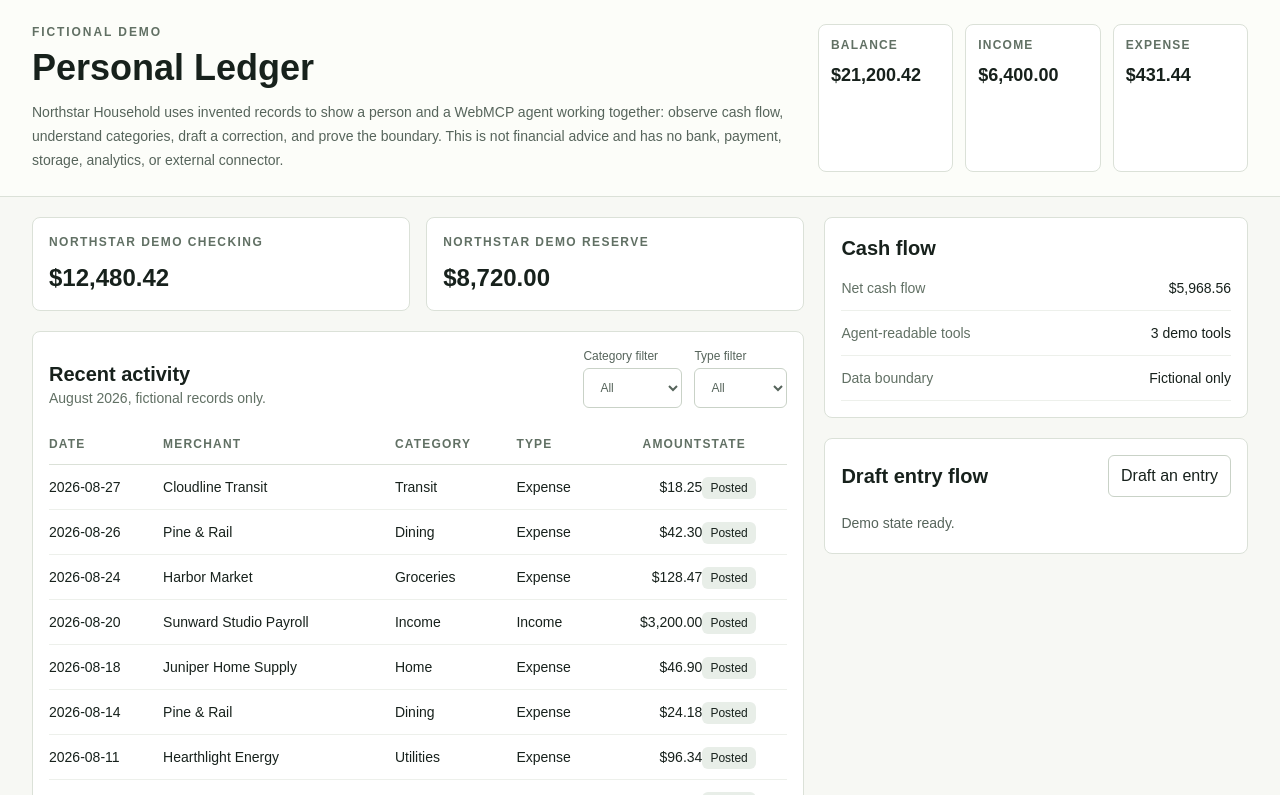
Test: Personal Ledger UI › filters the transaction list by category
Check: the text "Demo state ready." is shown, box [841,515,955,531]
Select "Groceries" in the dropdown labelled "Category filter" at x=633, y=388, box [583,368,682,408]
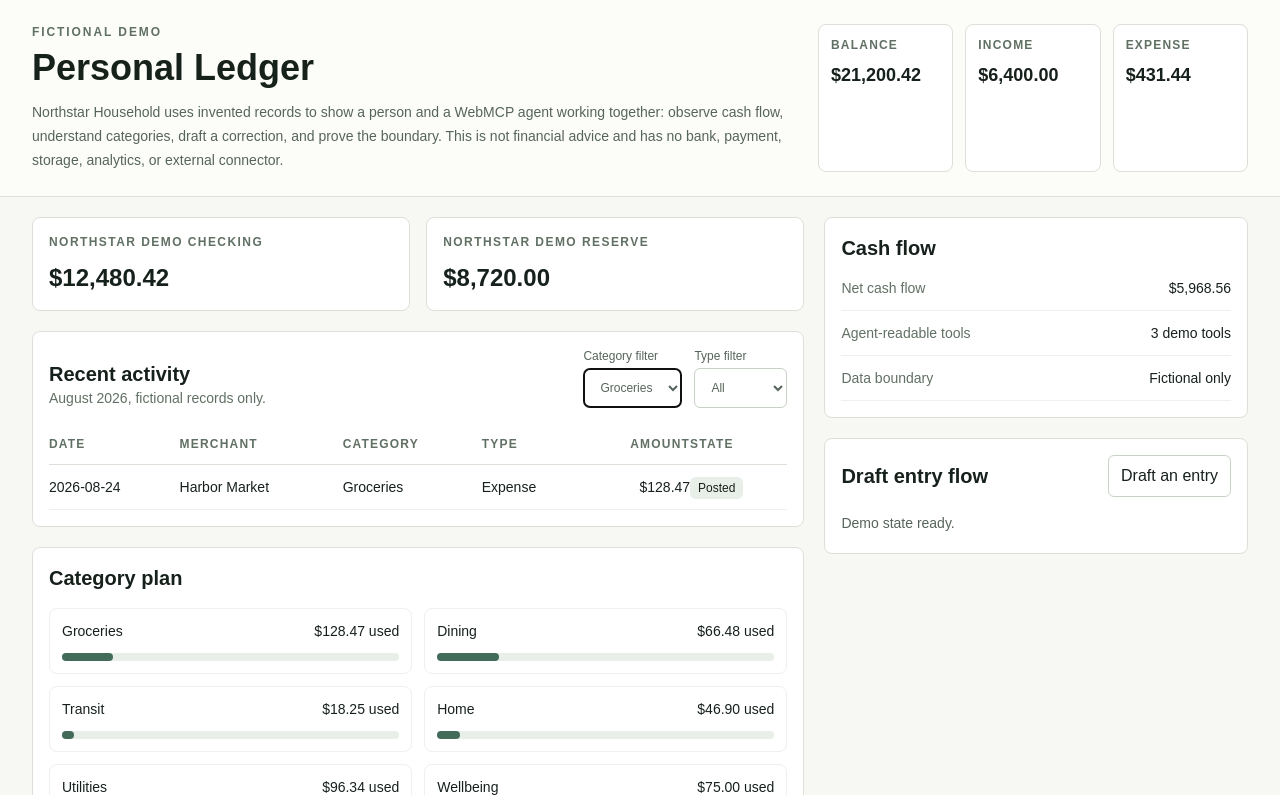
Check: the text "Groceries" is shown, box [343,464,482,510]
Check: the text "Pine & Rail" is gone
